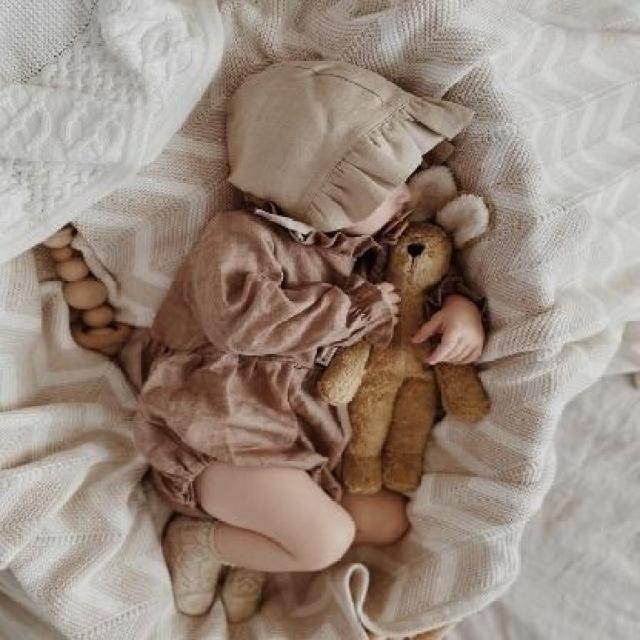child: (131, 52, 479, 624)
